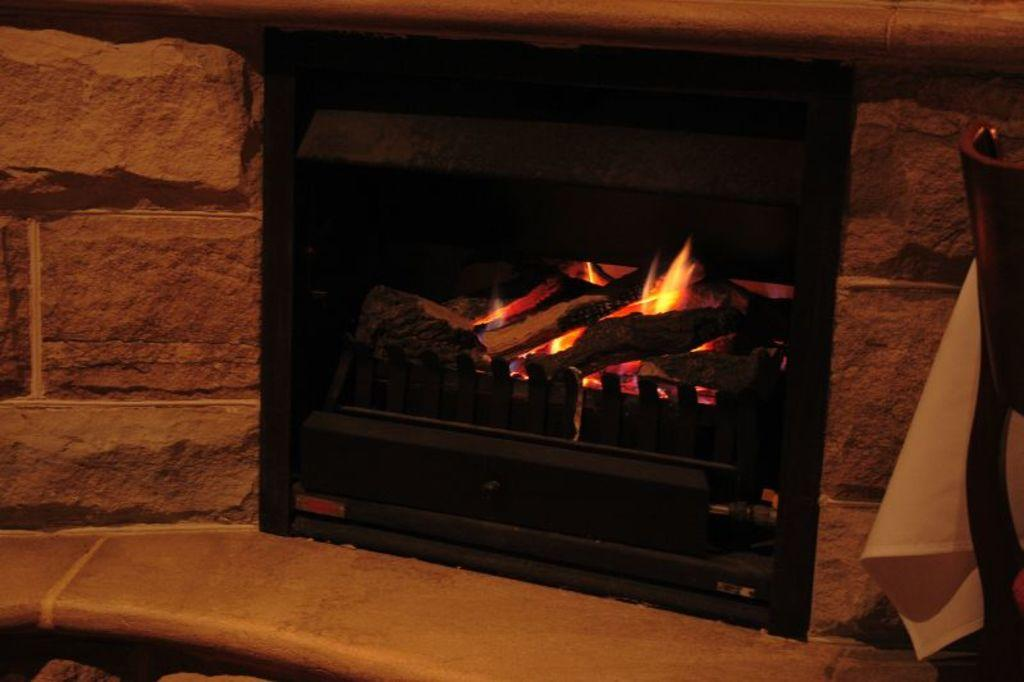Fire: (511, 240, 720, 389)
